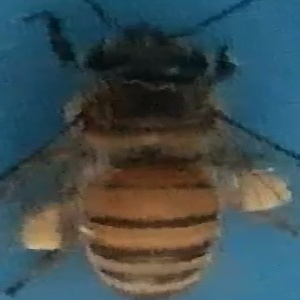bee: (15, 6, 292, 292)
